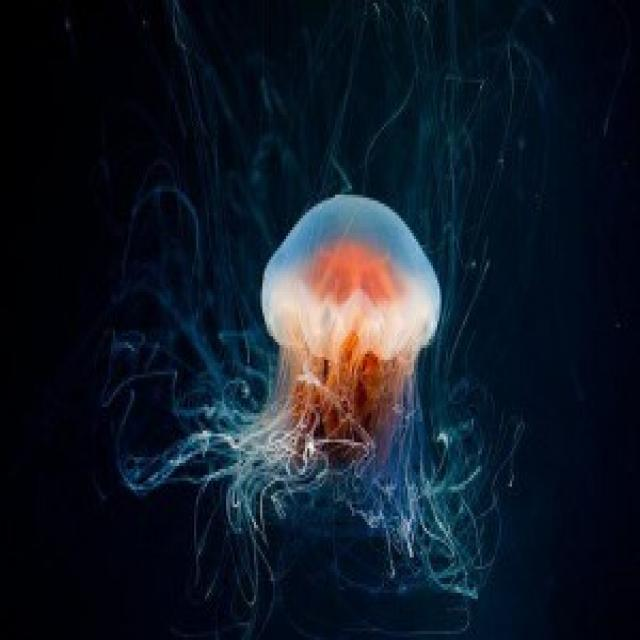Jellyfish: (252, 176, 443, 619)
